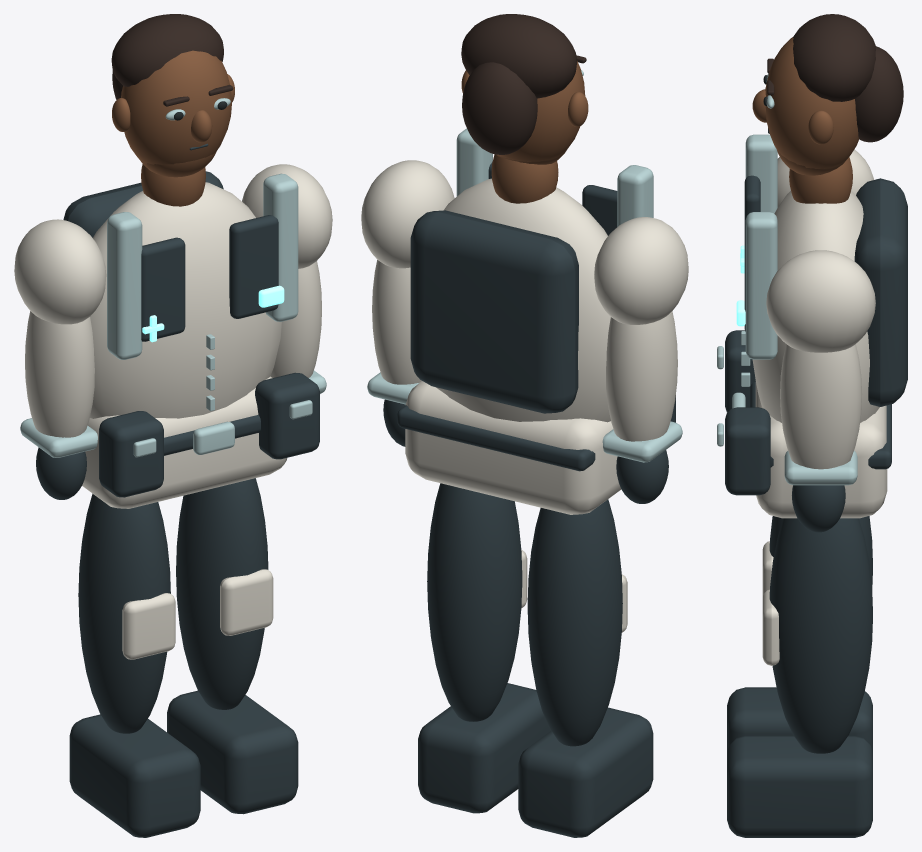
File: npc-imani.glb
3 views of the same model, side by side, from view 1: azimuth 30°, elevation 25°; view 2: azimuth 150°, elevation 25°; view 3: azimuth 270°, elevation 25° (orthographic). The views are drawn at different scales.
Visible parts, largest first — view 1: Coat torso, Trouser, Trouser.001, Boot, Boot.001, Face, Coat hem, Shoulder, Sleeve, Shoulder harness, Hair cap, Hip pouch (+15 smaller); view 2: Back armor, Trouser, Trouser.001, Coat hem, Boot, Coat torso, Boot.001, Shoulder, Sleeve, Hair cap, Shoulder.001, Tied hair (+11 smaller); view 3: Trouser.001, Boot.001, Back armor, Shoulder.001, Sleeve.001, Coat torso, Face, Hair cap, Coat hem, Shoulder harness.001, Hip pouch.001, Boot (+14 smaller).
Boxes of the visible parts, box(x1,y1,x2,y2) form: Coat torso: box(90, 182, 281, 418); Trouser: box(78, 493, 170, 733); Trouser.001: box(176, 478, 268, 709); Boot: box(69, 714, 200, 837); Boot.001: box(167, 690, 298, 814); Face: box(121, 50, 231, 164); Coat hem: box(82, 376, 287, 508); Shoulder: box(14, 219, 106, 324); Sleeve: box(25, 311, 94, 437); Shoulder harness: box(107, 212, 142, 359); Hair cap: box(111, 14, 223, 86); Hip pouch: box(99, 411, 163, 497); Back armor: box(410, 210, 578, 413); Trouser: box(527, 499, 622, 746); Trouser.001: box(427, 483, 522, 721); Coat hem: box(405, 381, 621, 514); Boot: box(518, 707, 653, 837); Coat torso: box(436, 178, 610, 422); Boot.001: box(418, 683, 550, 813); Shoulder: box(594, 217, 688, 324); Sleeve: box(606, 311, 677, 441); Hair cap: box(461, 14, 576, 98); Shoulder.001: box(361, 160, 454, 268); Tied hair: box(462, 62, 537, 154); Trouser.001: box(769, 518, 872, 753); Boot.001: box(727, 735, 872, 837); Back armor: box(854, 178, 907, 406); Shoulder.001: box(766, 250, 875, 352); Sleeve.001: box(780, 344, 862, 469); Coat torso: box(752, 190, 879, 422); Face: box(765, 37, 858, 168); Hair cap: box(793, 14, 875, 101); Coat hem: box(755, 381, 887, 518); Shoulder harness.001: box(745, 212, 777, 359); Hip pouch.001: box(725, 407, 770, 495); Boot: box(727, 687, 872, 752).
Bounding box in the file's own units: 0.772 × 1.88 × 0.4175.
